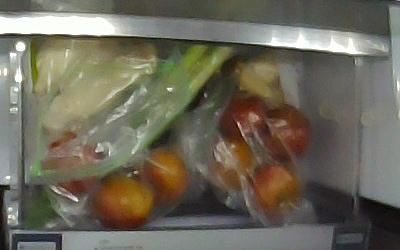prune_vinyl: (40, 129, 105, 194), (92, 164, 155, 230), (247, 157, 299, 216), (261, 102, 311, 163), (206, 139, 260, 191), (142, 147, 190, 204), (216, 92, 266, 141)
